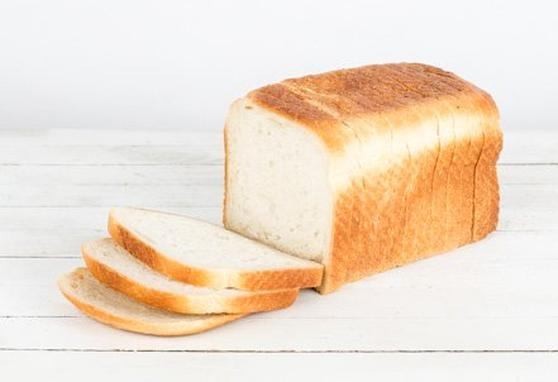white_bread: (266, 64, 507, 277)
